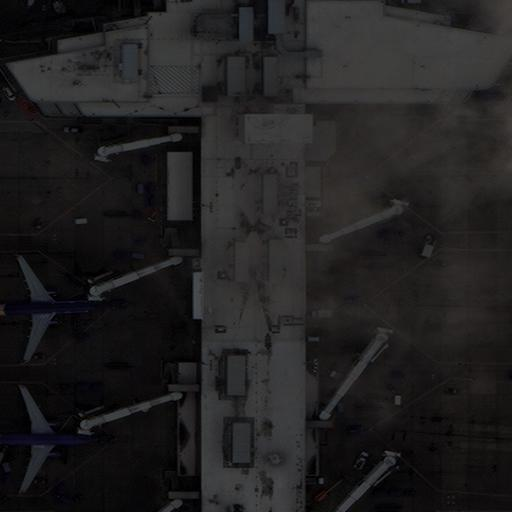Medium Civil Transport: (0, 255, 110, 361), (0, 385, 101, 493)
